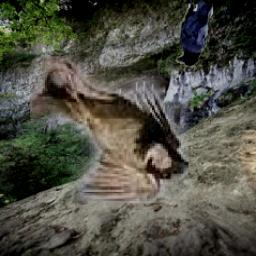Crow: (175, 1, 213, 67)
Sparrow: (30, 57, 189, 204)
